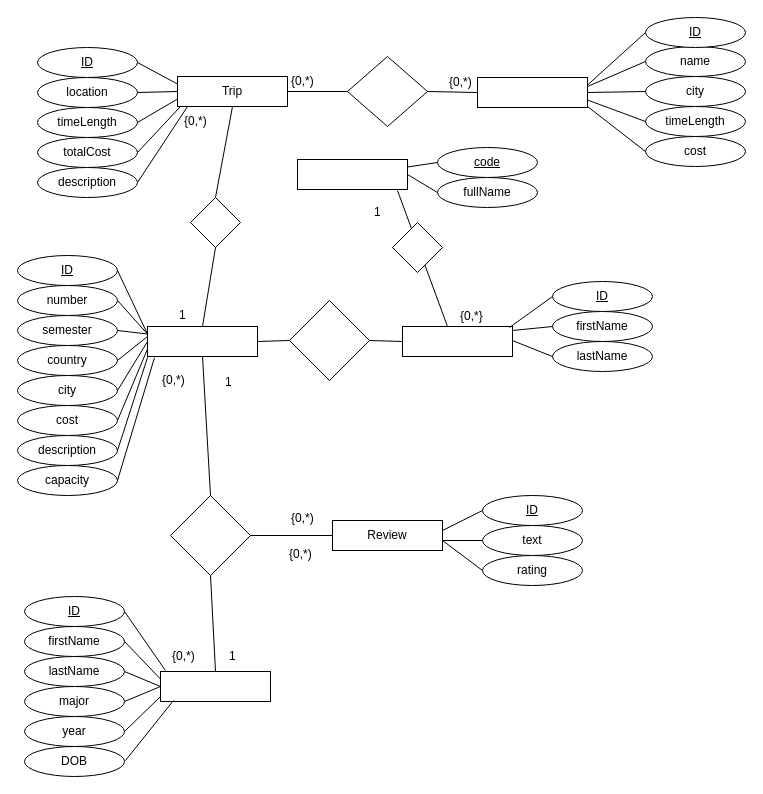
Some shapes in this 763 by 794 pixel diagram are drawn without their labels. The shapes that lost their labels are listed below. From the top down, each one's box as (x1, y1, x2, y2) in pixels, then its label:
(346, 56, 428, 126): Trip-Attraction
(476, 76, 588, 108): Attraction
(296, 158, 408, 190): Department
(146, 326, 258, 356): Program
(402, 326, 512, 356): Professor
(170, 494, 250, 576): Program-Participant
(160, 670, 270, 702): Participant
